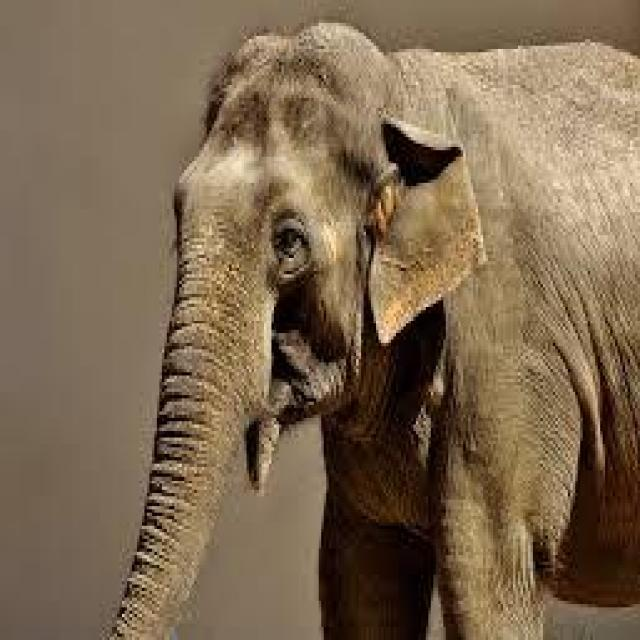Elephant: (160, 19, 638, 636)
